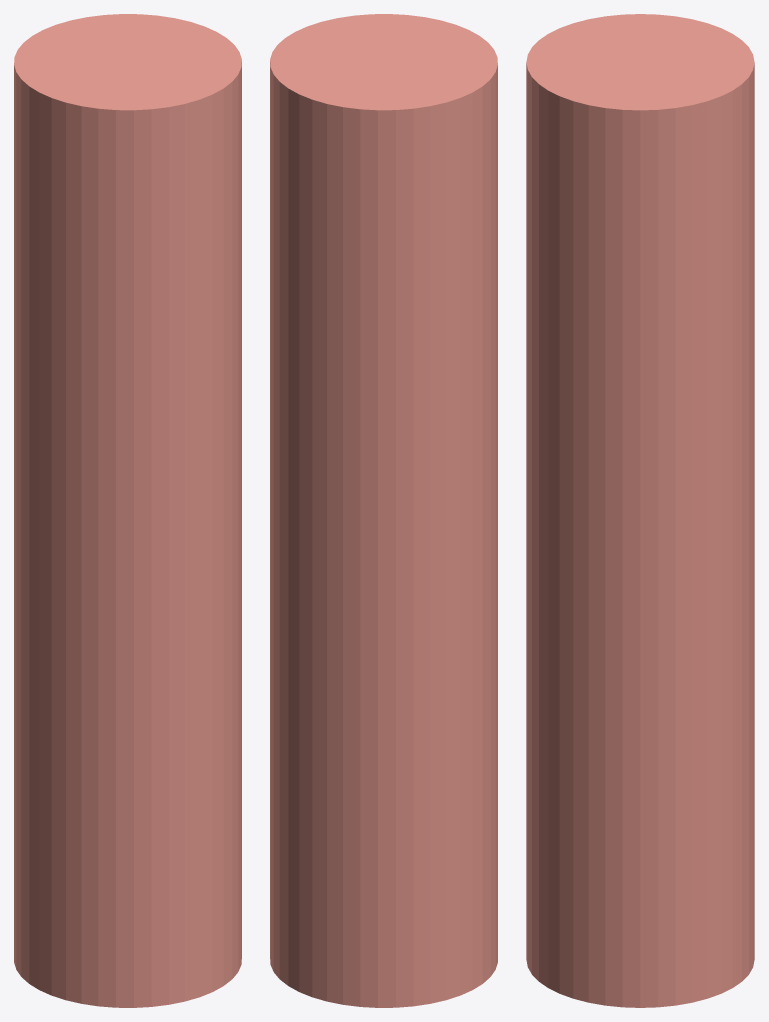
File: gen_battery_01.glb
The picture shows the model from 3 angles, left to right: view 1: azimuth 30°, elevation 25°; view 2: azimuth 150°, elevation 25°; view 3: azimuth 270°, elevation 25°; orthographic projection.
Parts seen in each view (by area): view 1: z-up-to-y-up; view 2: z-up-to-y-up; view 3: z-up-to-y-up.
Boxes of the visible parts, box(x1,y1,x2,y2) form: z-up-to-y-up: box(14, 14, 241, 1007); z-up-to-y-up: box(270, 14, 497, 1007); z-up-to-y-up: box(526, 14, 754, 1007).
Size of the model in its own units: 0.0133 by 0.0576 by 0.0133.
